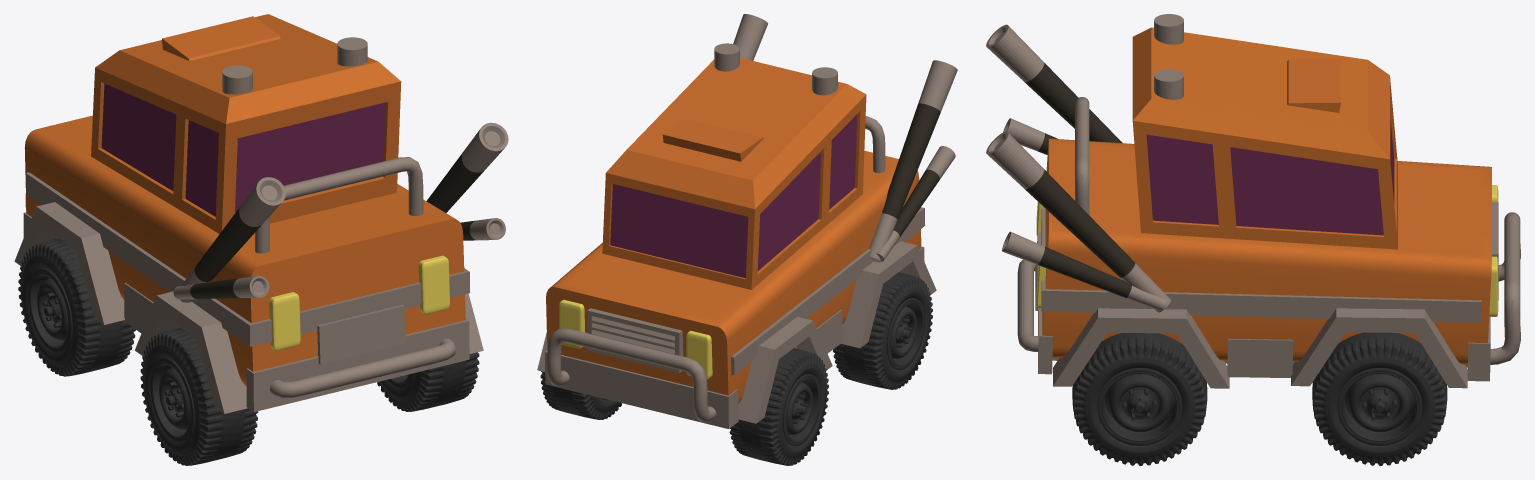
Rendered from car.fbx.
3 views of the same model, side by side, from view 1: azimuth 30°, elevation 25°; view 2: azimuth 150°, elevation 25°; view 3: azimuth 270°, elevation 25° (orthographic). The views are drawn at different scales.
Parts seen in each view (by area): view 1: Cube, Circle.001, Circle, Cube.001, Cube.002, Cylinder.004, Cylinder, Cylinder.001, Cube.006, Cube.005, Cylinder.005, Cylinder.003 (+2 smaller); view 2: Cube, Circle, Circle.001, Cube.002, Cylinder.004, Cylinder.001, Cylinder.002, Cylinder, Cube.001, Cube.004, Cylinder.006, Cube.003 (+2 smaller); view 3: Cube, Circle, Circle.001, Cylinder.004, Cube.001, Cylinder, Cylinder.001, Cube.002, Cylinder.006, Cylinder.002, Cylinder.007, Cylinder.003 (+2 smaller).
Part boxes in pixels (<box>): Cube: <box>24,14,465,386</box>; Circle.001: <box>140,327,479,465</box>; Circle: <box>18,238,135,376</box>; Cube.001: <box>25,172,470,346</box>; Cube.002: <box>23,212,469,411</box>; Cylinder.004: <box>180,122,508,302</box>; Cylinder: <box>135,291,483,413</box>; Cylinder.001: <box>14,202,124,324</box>; Cube.006: <box>317,304,405,364</box>; Cube.005: <box>269,255,449,350</box>; Cylinder.005: <box>270,338,455,398</box>; Cylinder.003: <box>255,157,423,253</box>; Cube: <box>546,58,921,403</box>; Circle: <box>540,348,828,465</box>; Circle.001: <box>833,272,932,389</box>; Cube.002: <box>545,246,924,428</box>; Cylinder.004: <box>733,14,957,262</box>; Cylinder.001: <box>537,317,832,423</box>; Cylinder.002: <box>547,328,716,421</box>; Cylinder: <box>841,241,936,348</box>; Cube.001: <box>731,207,925,375</box>; Cube.004: <box>587,308,683,372</box>; Cylinder.006: <box>876,146,955,261</box>; Cube.003: <box>559,299,712,379</box>; Cube: <box>1042,27,1491,364</box>; Circle: <box>1312,332,1447,465</box>; Circle.001: <box>1072,333,1207,465</box>; Cylinder.004: <box>986,24,1170,312</box>; Cube.001: <box>1041,208,1481,322</box>; Cylinder: <box>1053,308,1229,388</box>; Cylinder.001: <box>1291,308,1467,388</box>; Cube.002: <box>1038,308,1490,381</box>; Cylinder.006: <box>1002,118,1166,311</box>; Cylinder.002: <box>1464,212,1520,365</box>; Cylinder.007: <box>1154,14,1183,99</box>; Cylinder.003: <box>1075,97,1089,214</box>.
Size of the model in its own units: 1.8 by 2.18 by 2.99.
